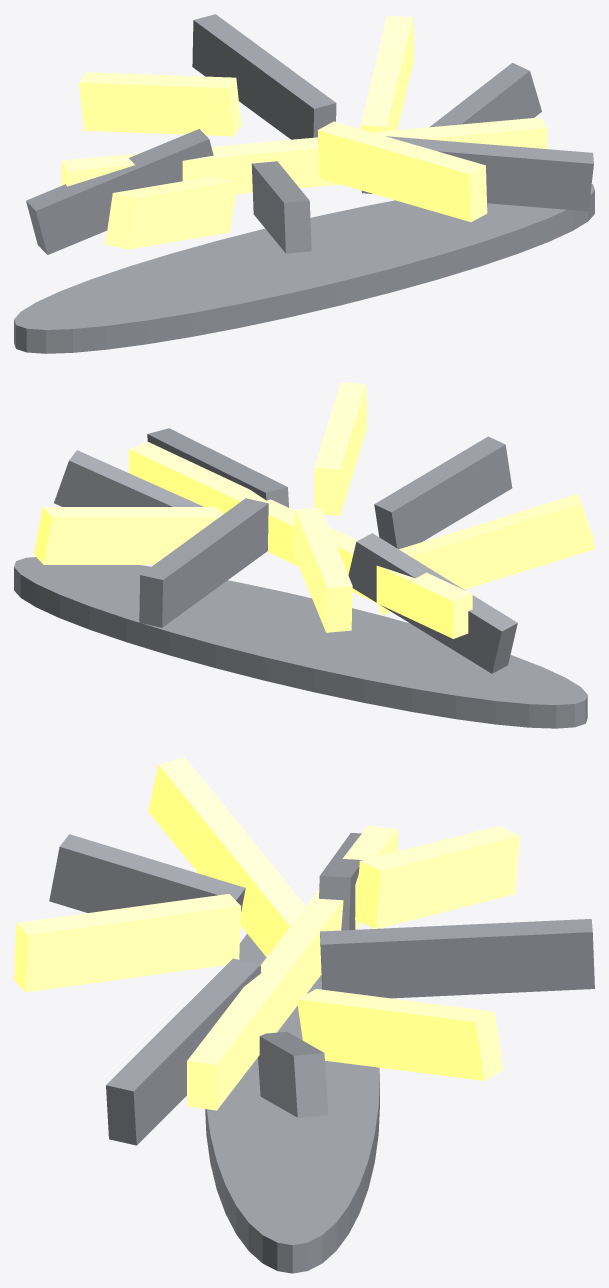
Rendered from armor_break.glb.
3 views of the same model, one above another, from view 1: azimuth 30°, elevation 25°; view 2: azimuth 150°, elevation 25°; view 3: azimuth 270°, elevation 25° (orthographic). The views are drawn at different scales.
Visible parts, largest first — view 1: armor break cracked plate, armor break shard 7, armor break shard 3, armor break bright fracture, armor break shard 2, armor break shard 4, armor break shard 8, armor break shard 5, armor break shard 1, armor break shard 6, armor break shard 0; view 2: armor break cracked plate, armor break bright fracture, armor break shard 5, armor break shard 1, armor break shard 2, armor break shard 6, armor break shard 4, armor break shard 3, armor break shard 7, armor break shard 0, armor break shard 8; view 3: armor break cracked plate, armor break shard 2, armor break shard 7, armor break shard 1, armor break bright fracture, armor break shard 5, armor break shard 3, armor break shard 8, armor break shard 6, armor break shard 0, armor break shard 4.
Part boxes in pixels (x1,y1,x2,y2): armor break cracked plate: (14,184,594,353); armor break shard 7: (317,121,487,221); armor break shard 3: (79,72,241,136); armor break bright fracture: (61,117,547,194); armor break shard 2: (192,14,336,139); armor break shard 4: (26,129,213,254); armor break shard 8: (361,136,593,211); armor break shard 5: (105,177,237,249); armor break shard 1: (360,15,414,132); armor break shard 6: (251,161,311,253); armor break shard 0: (429,63,541,127); armor break cracked plate: (14,557,587,728); armor break bright fracture: (129,442,472,638); armor break shard 5: (376,494,594,615); armor break shard 1: (34,507,222,564); armor break shard 2: (139,498,268,627); armor break shard 6: (374,436,512,549); armor break shard 4: (348,533,517,673); armor break shard 3: (294,507,352,632); armor break shard 7: (314,382,366,515); armor break shard 0: (54,450,203,506); armor break shard 8: (147,428,288,507); armor break cracked plate: (205,934,379,1273); armor break shard 2: (320,919,594,998); armor break shard 7: (14,894,240,992); armor break shard 1: (297,989,503,1080); armor break bright fracture: (187,825,397,1110); armor break shard 5: (148,757,305,956); armor break shard 3: (355,826,519,928); armor break shard 8: (106,958,261,1145); armor break shard 6: (49,834,245,912); armor break shard 0: (258,1031,328,1117); armor break shard 4: (319,833,362,930).
Bounding box in the file's own units: 0.76 × 0.2282 × 0.5551.
